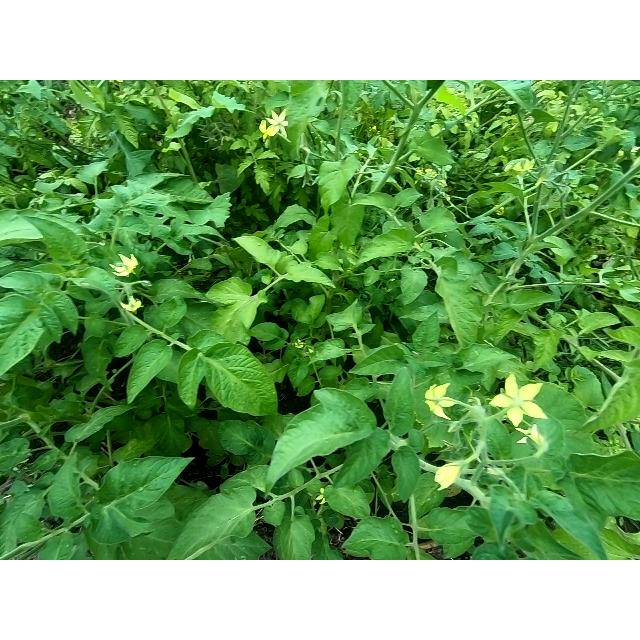Flowers: (490, 372, 548, 426), (426, 380, 456, 420), (514, 426, 550, 456), (260, 108, 290, 142), (435, 462, 463, 492), (108, 252, 138, 278), (505, 157, 535, 175), (120, 298, 144, 312), (424, 168, 436, 178), (294, 339, 304, 348)
